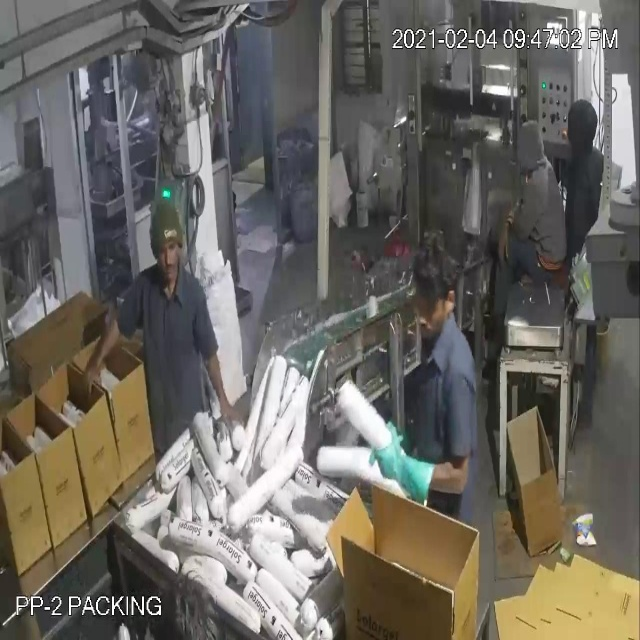Guantes: (358, 417, 449, 510)
Sin_guantes: (188, 335, 252, 449), (71, 300, 132, 404)
